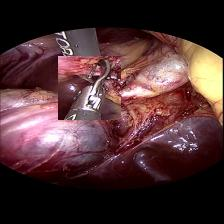Scissors: (58, 55, 121, 119)
